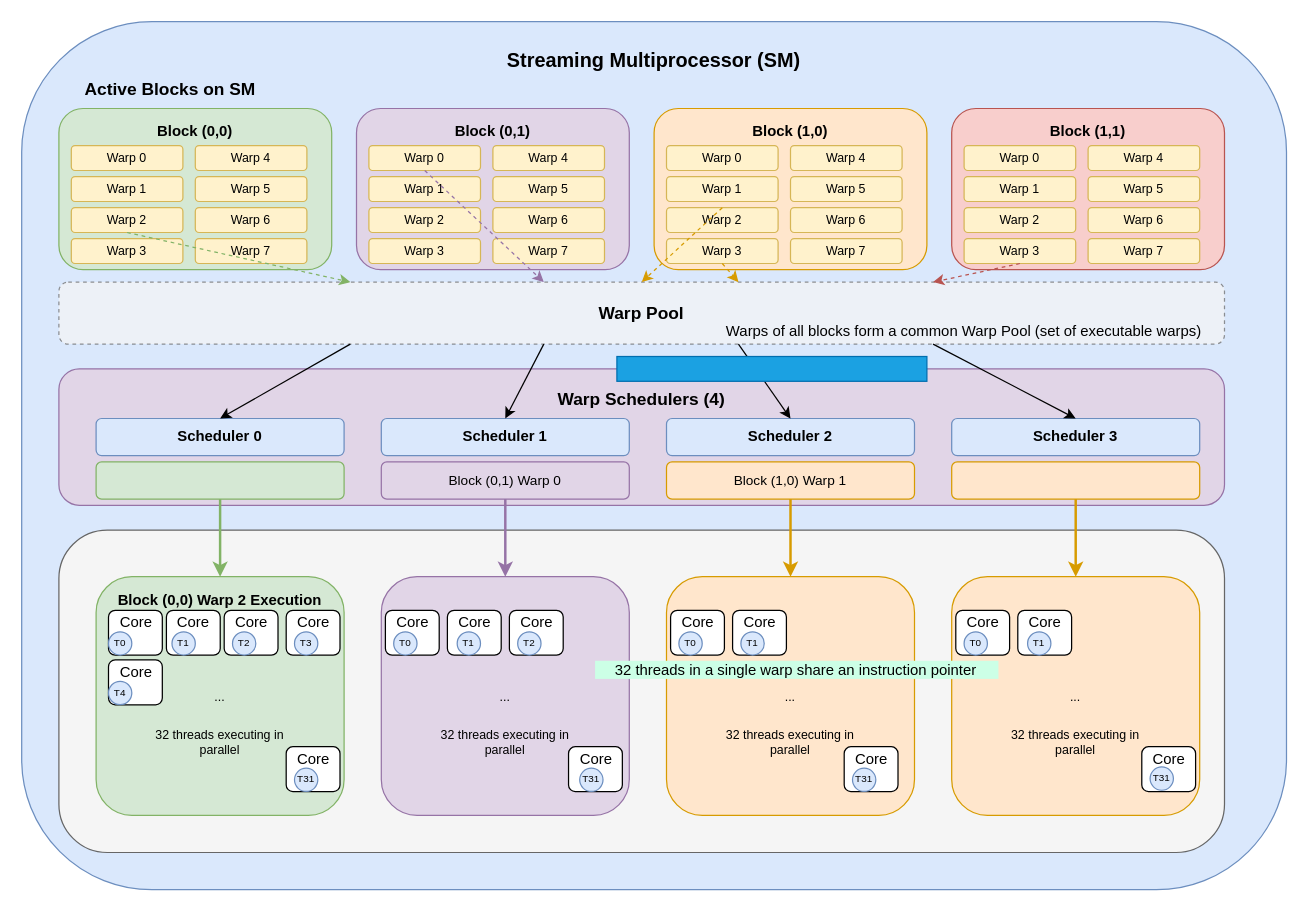
Image size: 1308x911. Some labels were removed from this diagram. The shapes that lost their labels are listed below. From the top down, each one's box as (x1, y1, x2, y2) in pixels, then its label:
(616, 355, 927, 381): Each scheduler dynamically selects Warp
(95, 461, 344, 499): Block (0,0) Warp 2
(950, 461, 1200, 499): Block (1,0) Warp 3
(380, 575, 629, 815): Block (0,1) Warp 0 Execution
(58, 529, 1224, 852): CUDA Cores (128 FP32, 64 FP64, 4 Tensor)
(665, 575, 914, 815): Block (1,0) Warp 1 Execution
(950, 575, 1200, 815): Block (1,0) Warp 3 Execution
